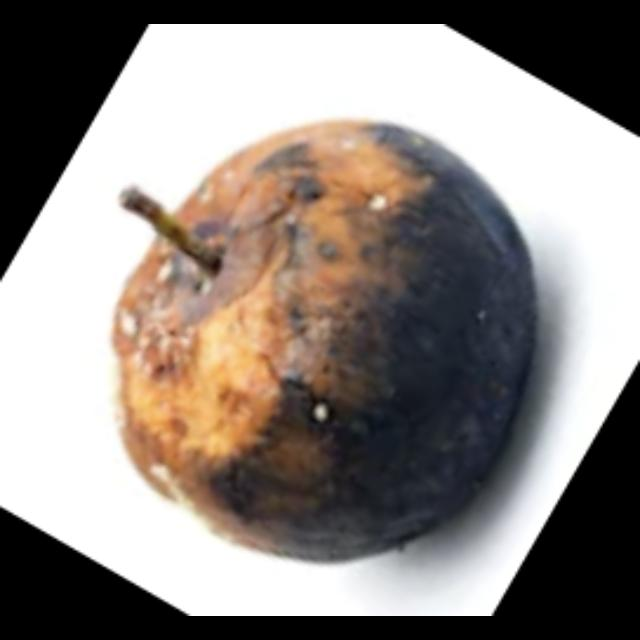Apel Tidak Segar: (100, 109, 548, 572)
